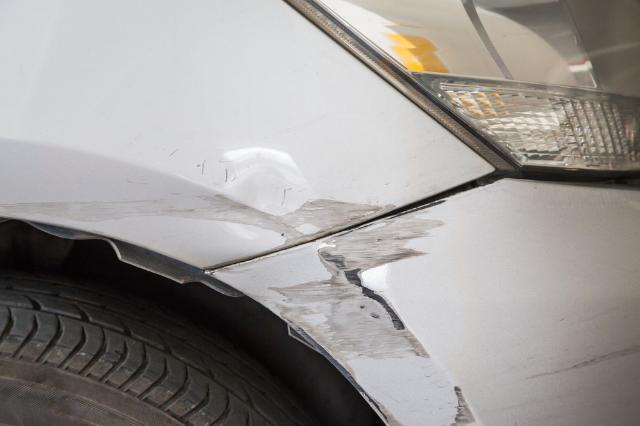dent: (222, 170, 296, 235)
scratch: (271, 199, 449, 426), (0, 194, 228, 223), (277, 198, 399, 251)
